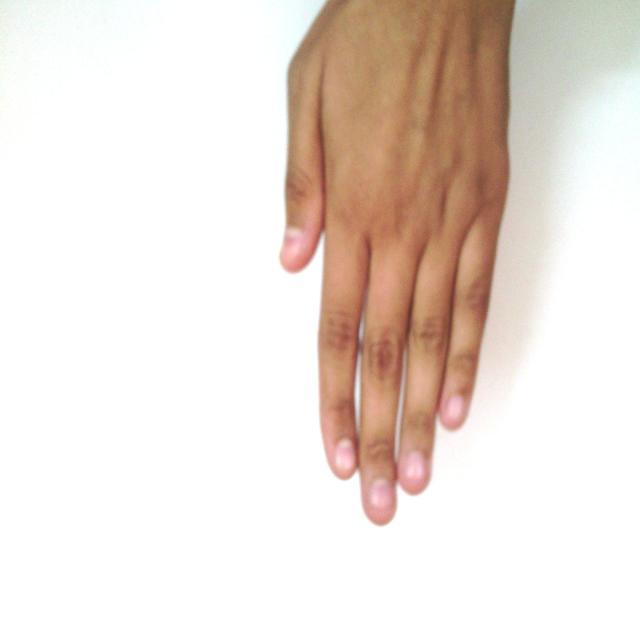Fingernail: (402, 452, 426, 482), (369, 480, 393, 509), (337, 440, 356, 470), (283, 228, 302, 256), (446, 395, 465, 421)
